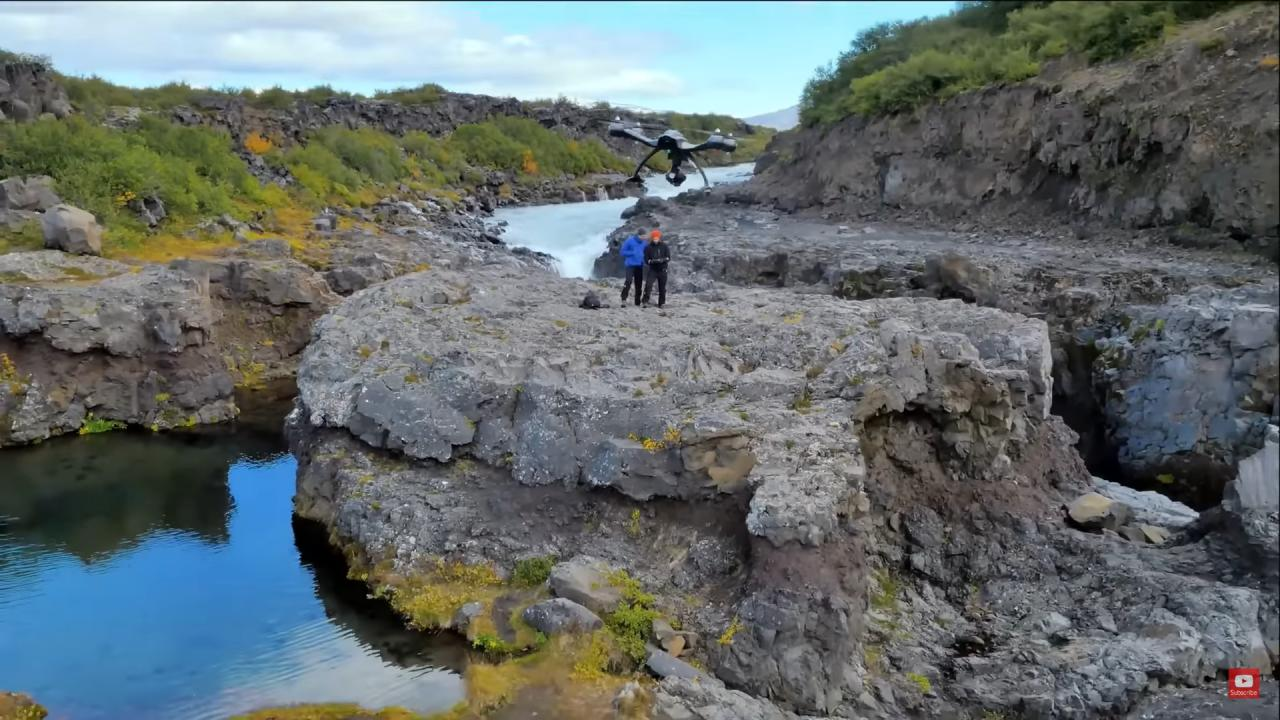Drone: (586, 110, 746, 201)
